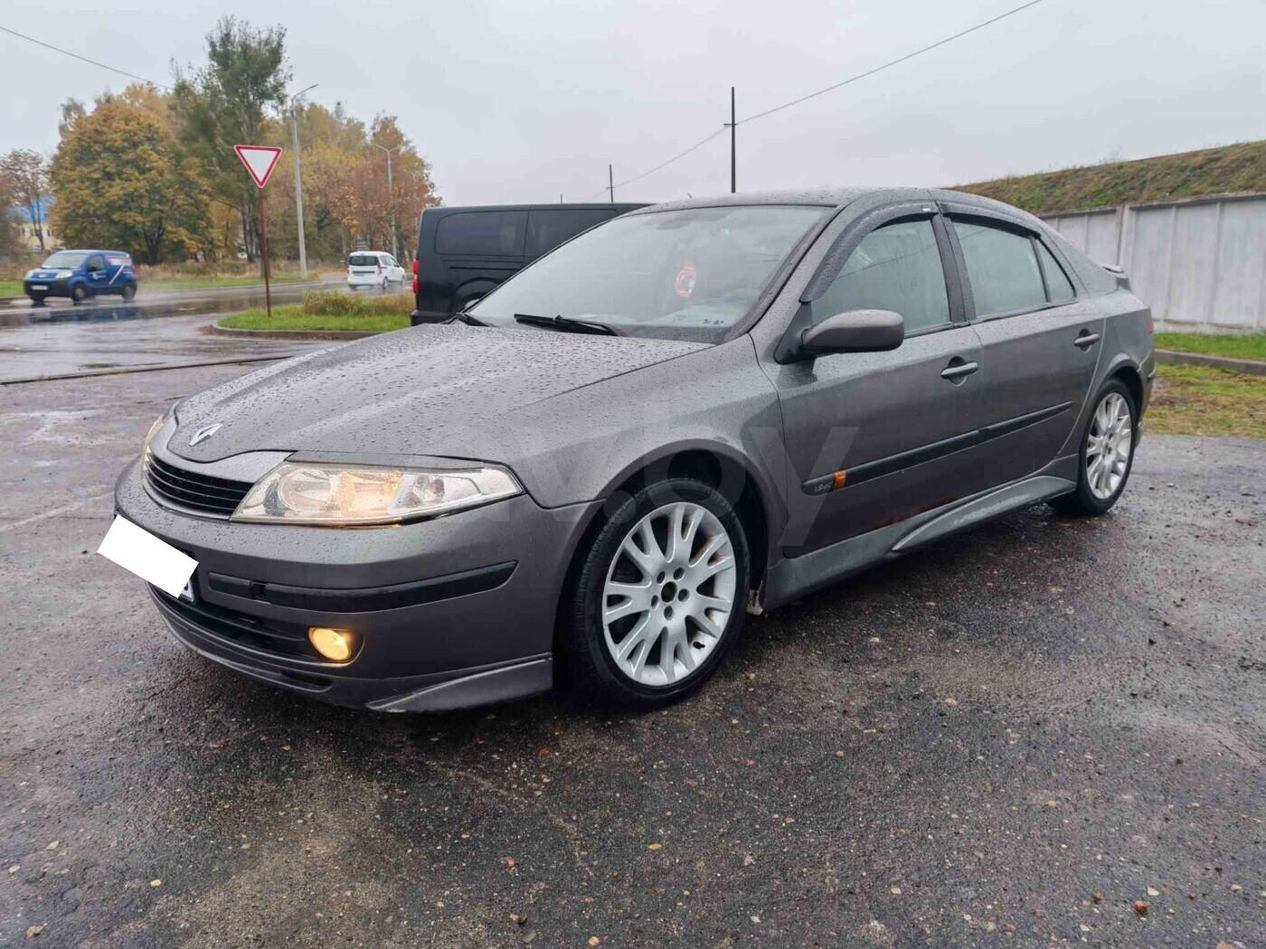Laguna_2001-2005: (110, 186, 1155, 711)
